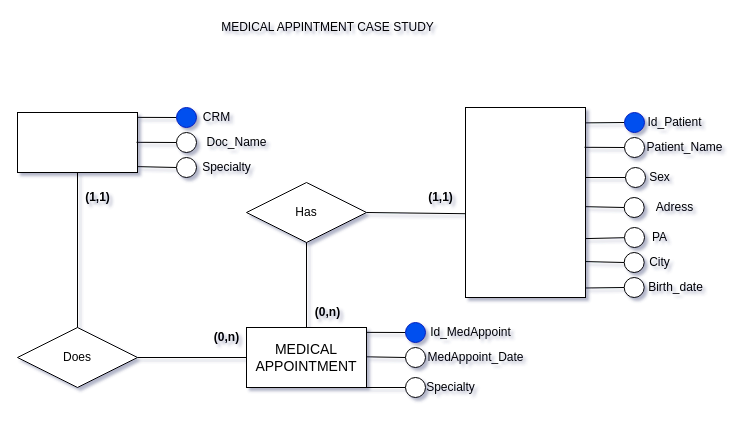
Some shapes in this 753 by 421 pixel diagram are drawn without their labels. The centre of each missing label's shape, as x and y in pixels:
Doctor: point 77,142
PATIENT: point 525,202
